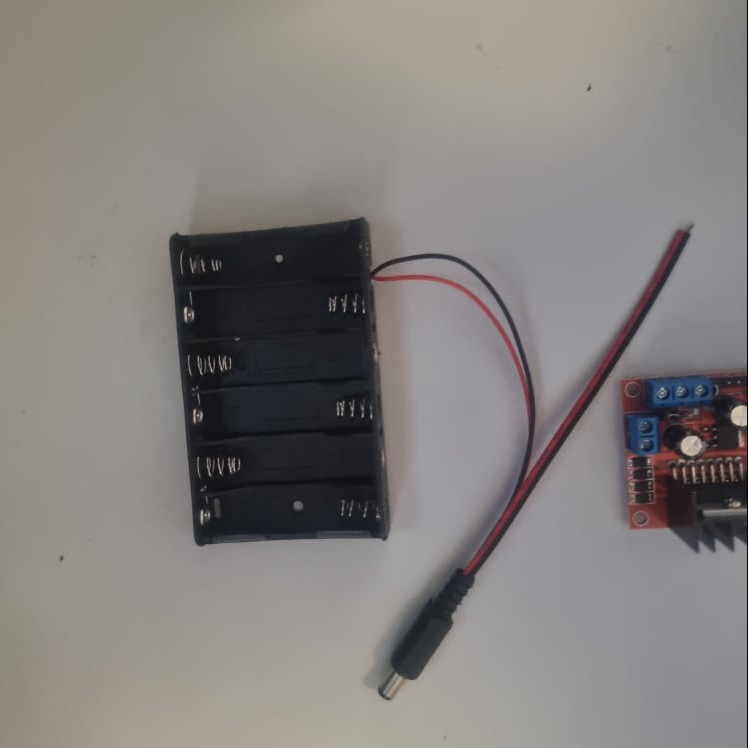BATTERY BOX: (169, 215, 389, 546)
MOTOR: (617, 373, 748, 555)
